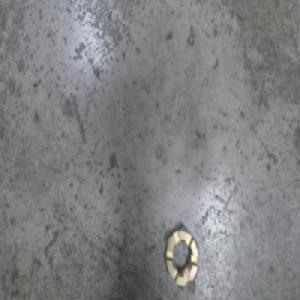Nut: (165, 222, 199, 289)
